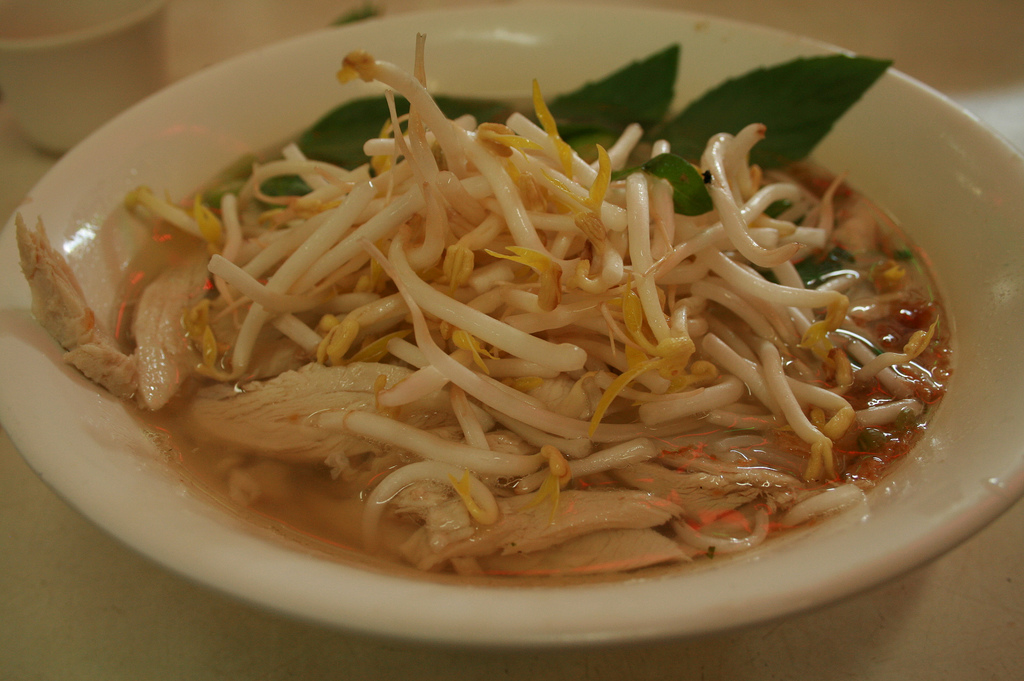chopped lettuce: (263, 122, 819, 460)
